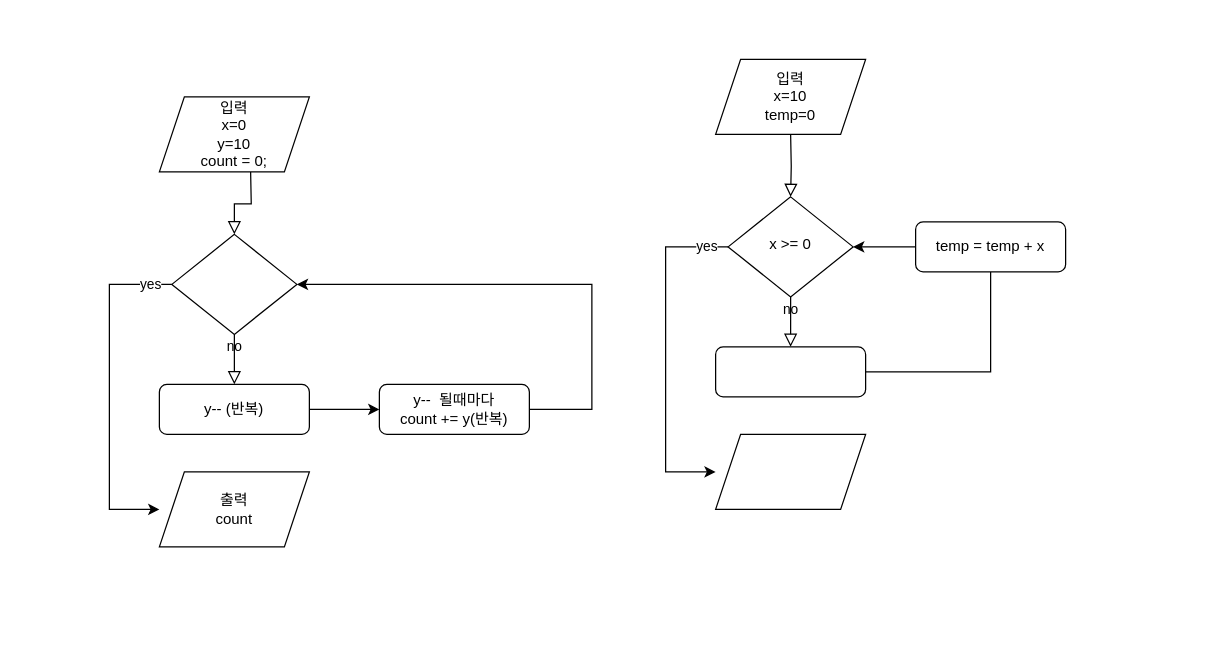
Some shapes in this 1218 by 655 pixel diagram are drawn without their labels. Each missing label, with the centre of its shape:
"x--" goes at [790,371].
"y < x" goes at [234,283].
"출력 temp" goes at [790,471].
